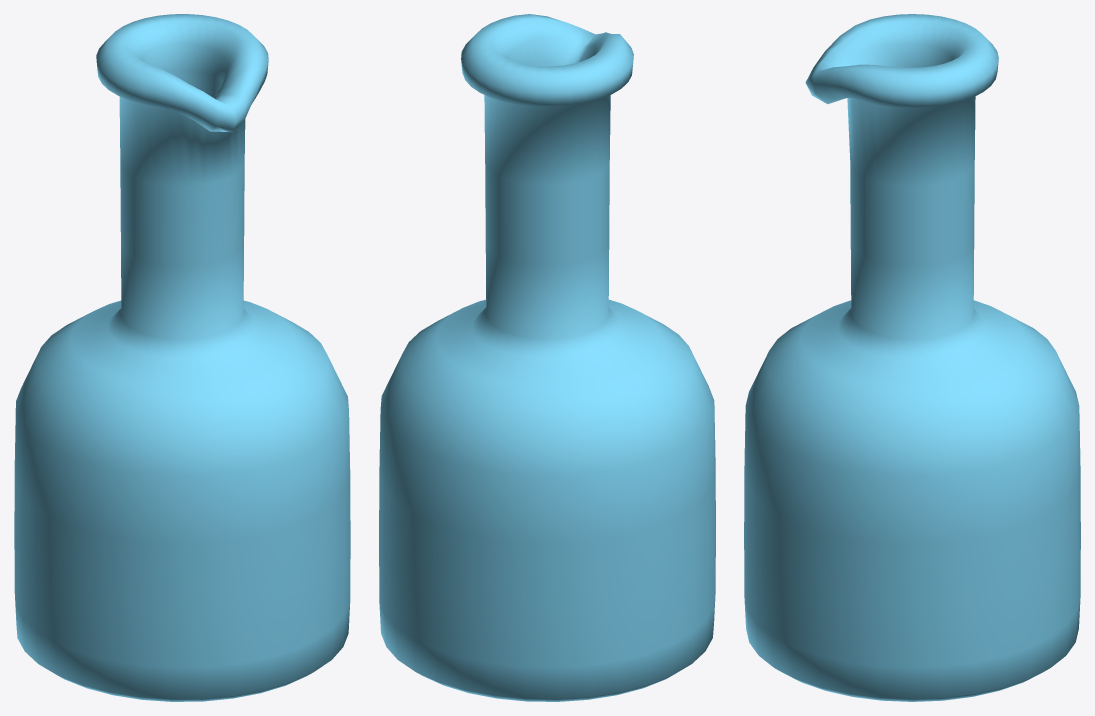
Rendered from Flask, Cylindrical, Long Neck, Spout.fbx.
The picture shows the model from 3 angles, left to right: view 1: azimuth 30°, elevation 25°; view 2: azimuth 150°, elevation 25°; view 3: azimuth 270°, elevation 25°; orthographic projection.
Parts seen in each view (by area): view 1: Flask, Cylindrical, Long Neck, Spout; view 2: Flask, Cylindrical, Long Neck, Spout; view 3: Flask, Cylindrical, Long Neck, Spout.
Boxes of the visible parts, x1,y1,x2,y2 form: Flask, Cylindrical, Long Neck, Spout: [14, 14, 350, 701]; Flask, Cylindrical, Long Neck, Spout: [379, 14, 715, 701]; Flask, Cylindrical, Long Neck, Spout: [744, 14, 1080, 701].
Bounding box in the file's own units: 0.4269 × 0.8289 × 0.4269.
